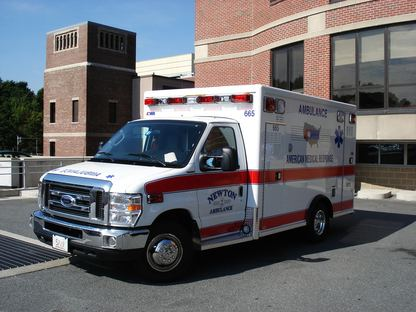ambulance: (27, 83, 357, 280)
